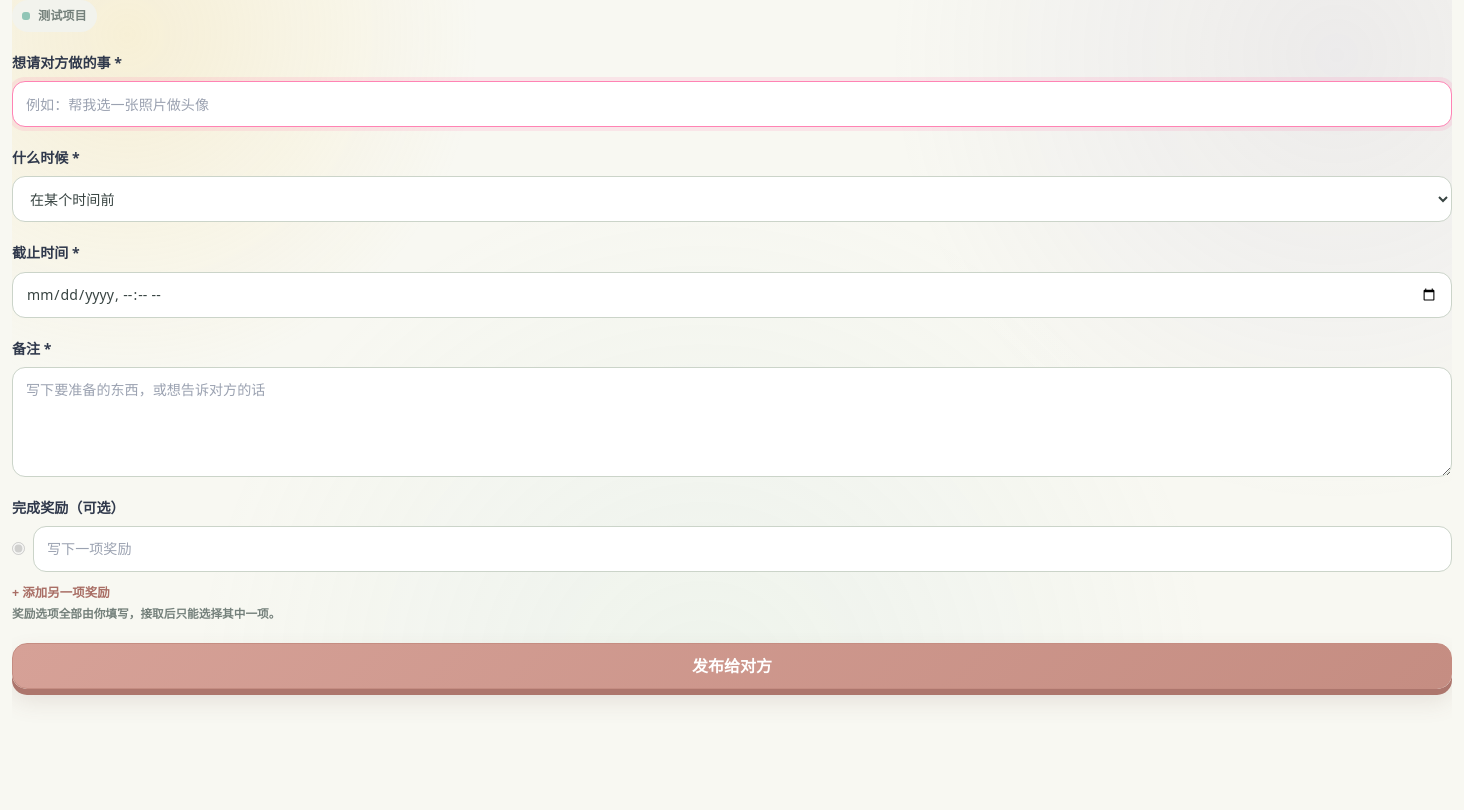
Test: TaskForm simplified fields › supports fixed and claim-relative task times
The image size is (1464, 810).
Expected: the field labelled "截止时间 *" is shown, [12, 272, 1452, 318]
Select "开始后一段时间内" in the dropdown labelled "什么时候 *" at (732, 200), box [12, 176, 1452, 222]
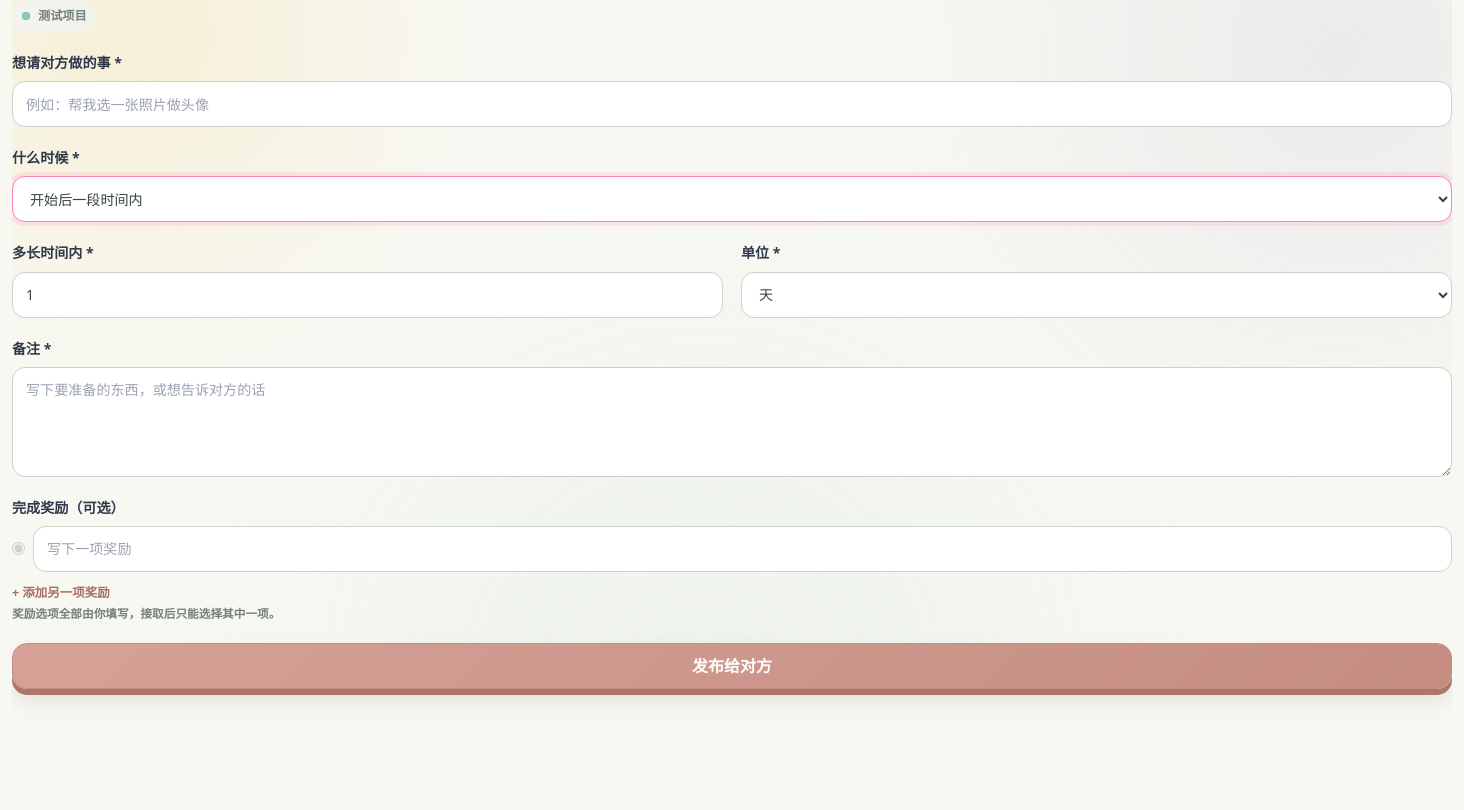
Expected: the number field labelled "多长时间内 *" is shown, [12, 272, 723, 318]
Expected: the dropdown labelled "单位 *" is shown, [741, 272, 1452, 318]
Expected: the field labelled "截止时间" is gone
Select "约在具体时间" in the dropdown labelled "什么时候 *" at (732, 200), box [12, 176, 1452, 222]
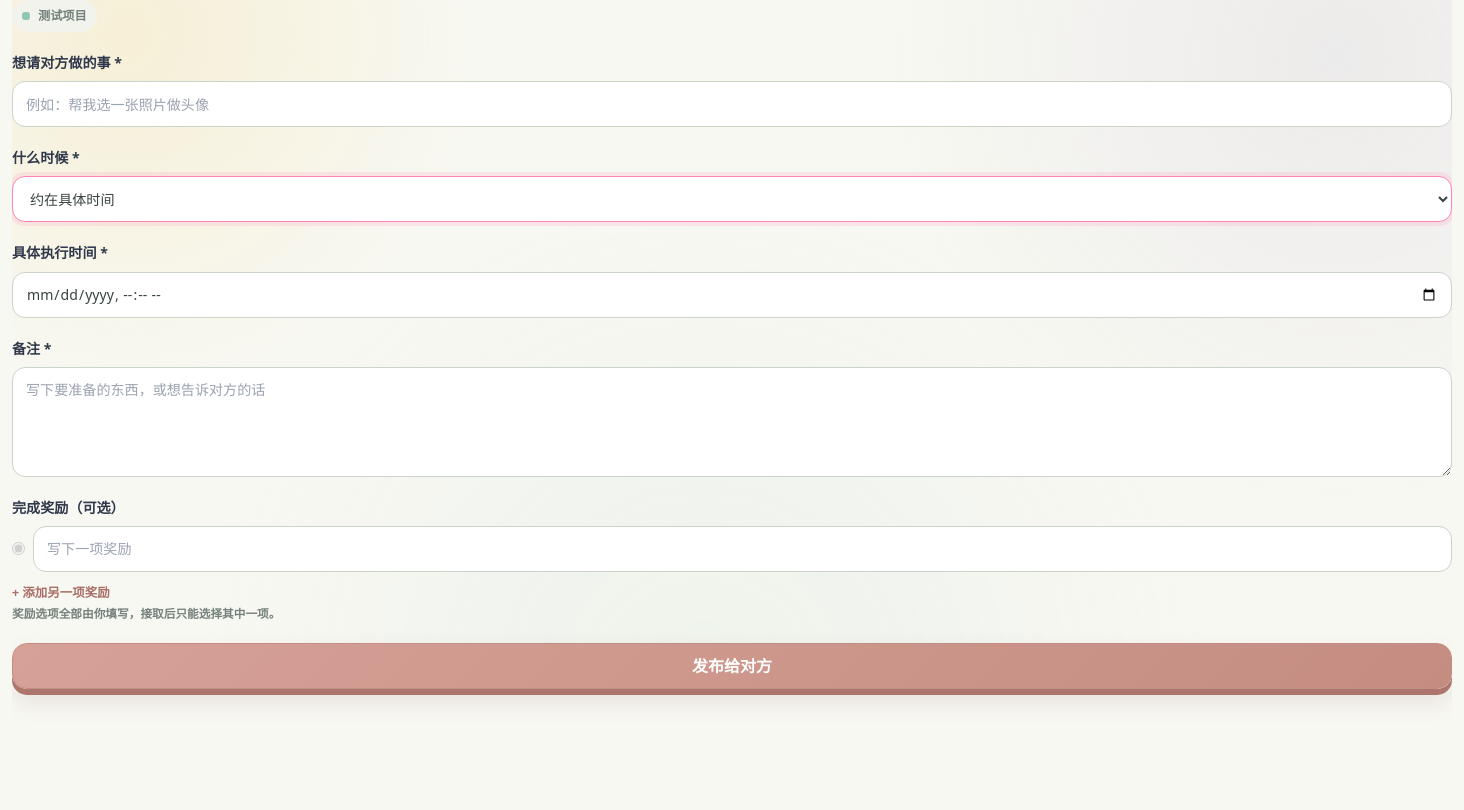
Expected: the field labelled "具体执行时间 *" is shown, [12, 272, 1452, 318]
